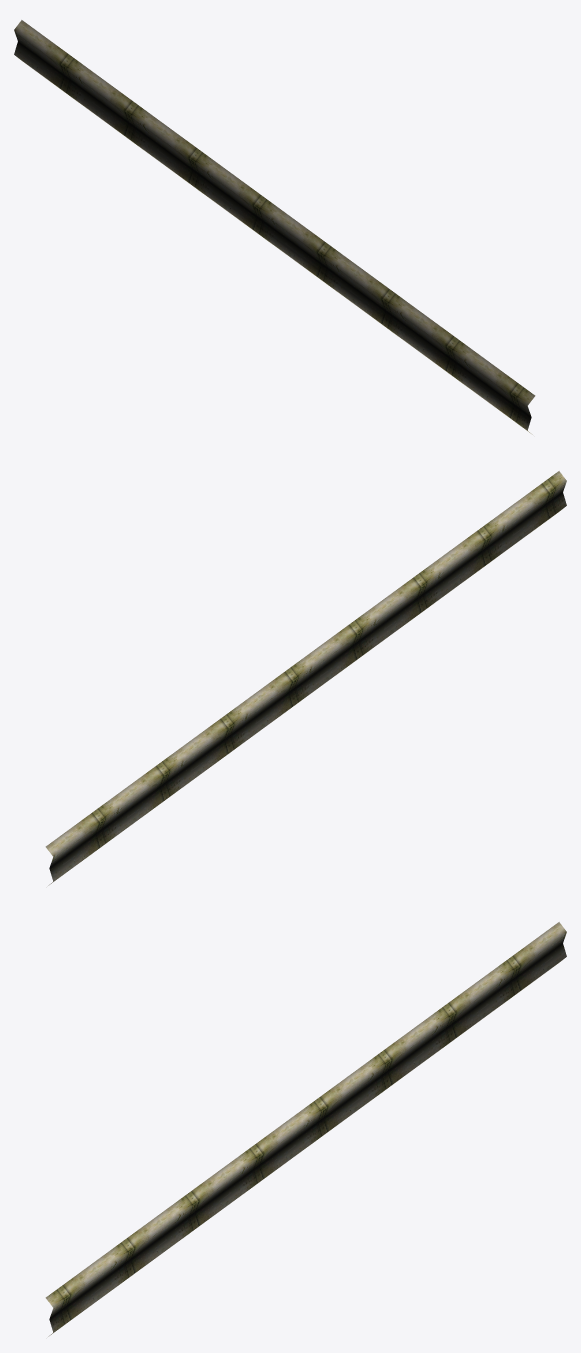
File: M11B_BigPipes01.glb
The picture shows the model from 3 angles, top to bottom: view 1: azimuth 30°, elevation 25°; view 2: azimuth 150°, elevation 25°; view 3: azimuth 330°, elevation 25°; orthographic projection.
Parts seen in each view (by area): view 1: M11B_BIGPIPES01; view 2: M11B_BIGPIPES01; view 3: M11B_BIGPIPES01.
Boxes of the visible parts, bbox=[...] form: M11B_BIGPIPES01: bbox=[14, 20, 535, 434]; M11B_BIGPIPES01: bbox=[45, 471, 566, 885]; M11B_BIGPIPES01: bbox=[45, 922, 566, 1336].
Bounding box in the file's own units: 0.707 × 0.707 × 16.
Materials: 1 (1 with a texture image).
